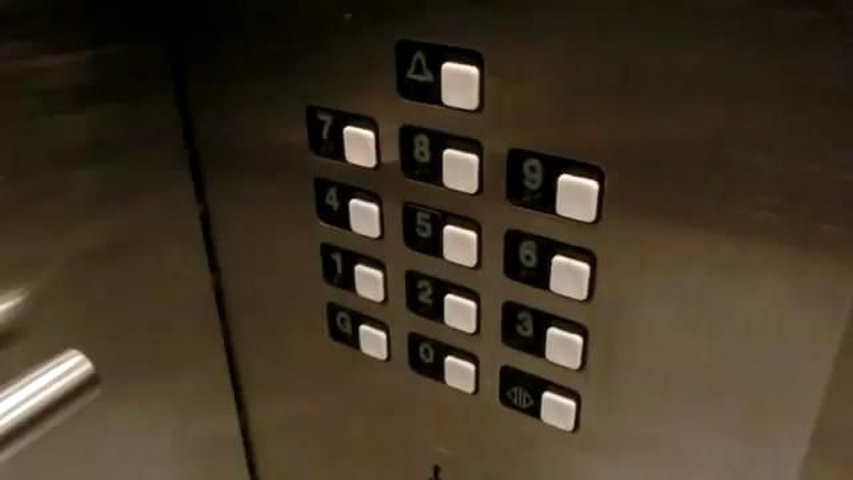0: (404, 328, 482, 399)
1: (316, 241, 391, 307)
2: (400, 266, 482, 339)
3: (497, 298, 589, 375)
4: (310, 171, 387, 243)
5: (398, 198, 486, 273)
6: (500, 224, 597, 307)
7: (300, 99, 384, 174)
8: (393, 118, 488, 200)
9: (500, 141, 610, 228)
G: (323, 298, 395, 365)
alarm: (389, 33, 487, 114)
open: (496, 359, 582, 436)
